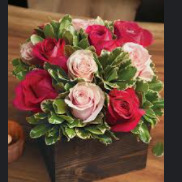RedRose: (17, 68, 58, 113), (108, 87, 142, 134), (33, 36, 67, 76), (84, 19, 115, 51)
